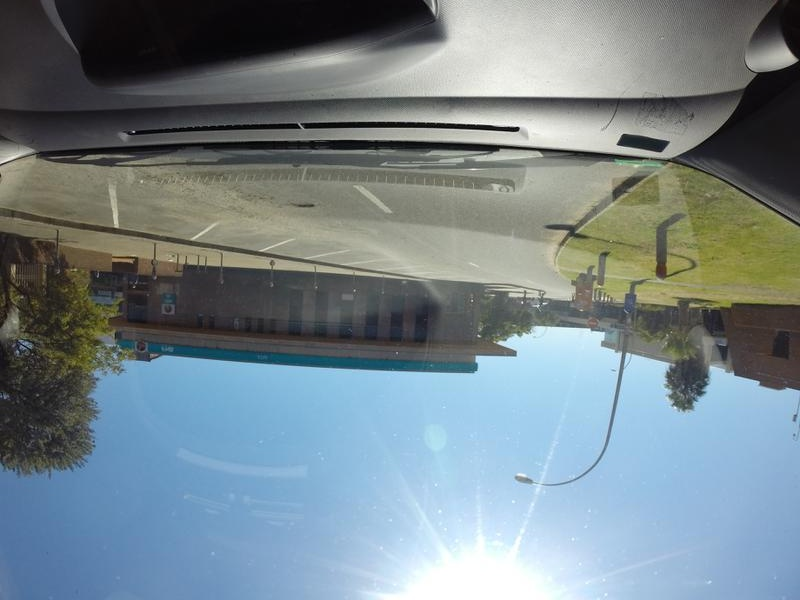pothole: (289, 197, 332, 211)
